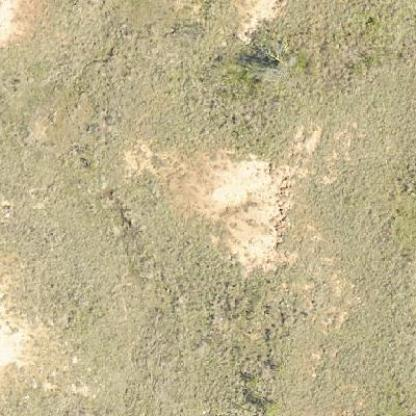tree-top: (233, 31, 303, 88)
